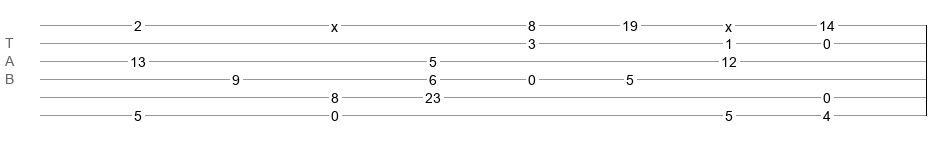0: (331, 108, 339, 118), (528, 72, 536, 82), (823, 36, 831, 46), (823, 90, 831, 100)
1: (725, 36, 733, 46)
12: (721, 54, 737, 64)
13: (130, 54, 146, 64)
14: (819, 18, 835, 28)
19: (622, 18, 638, 28)
2: (134, 18, 142, 28)
23: (425, 90, 441, 100)
3: (528, 36, 536, 46)
4: (823, 108, 831, 118)
5: (134, 108, 142, 118), (429, 54, 437, 64), (626, 72, 634, 82), (725, 108, 733, 118)
6: (429, 72, 437, 82)
8: (331, 90, 339, 100), (528, 18, 536, 28)
9: (232, 72, 240, 82)
x: (331, 19, 338, 27), (725, 19, 732, 27)
